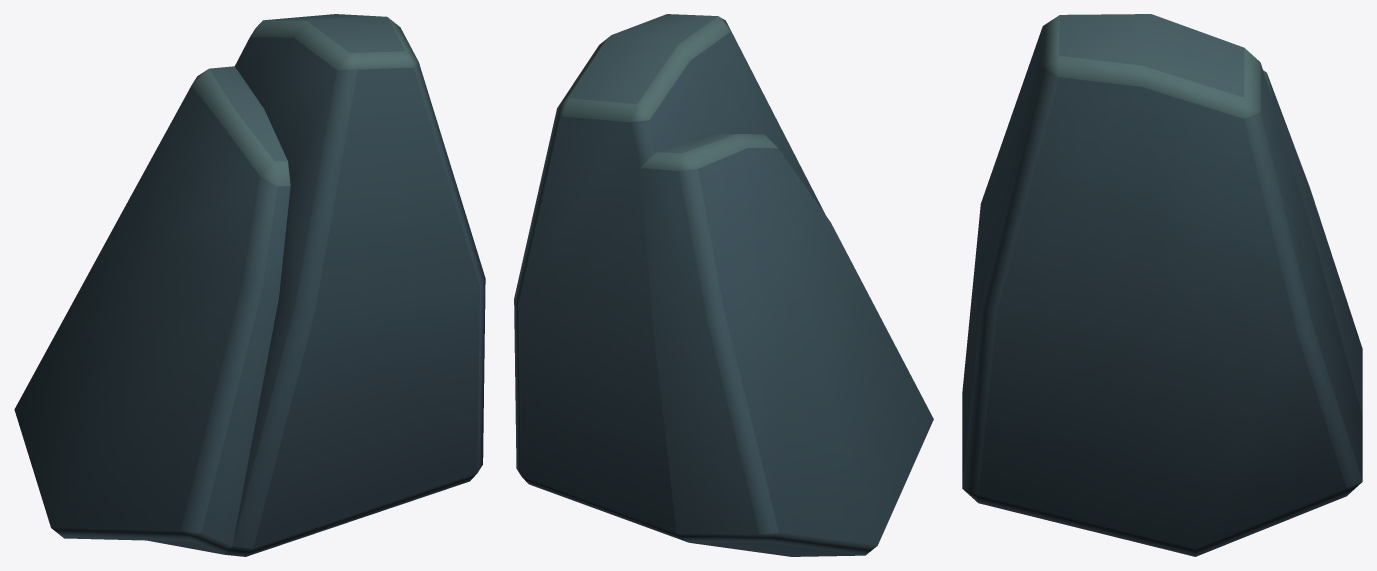
The model's file is rock_11.fbx.
3 renders of one model, left to right at view 1: azimuth 30°, elevation 25°; view 2: azimuth 150°, elevation 25°; view 3: azimuth 270°, elevation 25°, orthographic. The views are drawn at different scales.
Visible parts, largest first — view 1: rock_11; view 2: rock_11; view 3: rock_11.
Boxes of the visible parts, x1,y1,x2,y2 form: rock_11: (14,14,485,556); rock_11: (514,14,933,556); rock_11: (962,14,1362,556).
Size of the model in its own units: 135 by 181 by 124.
